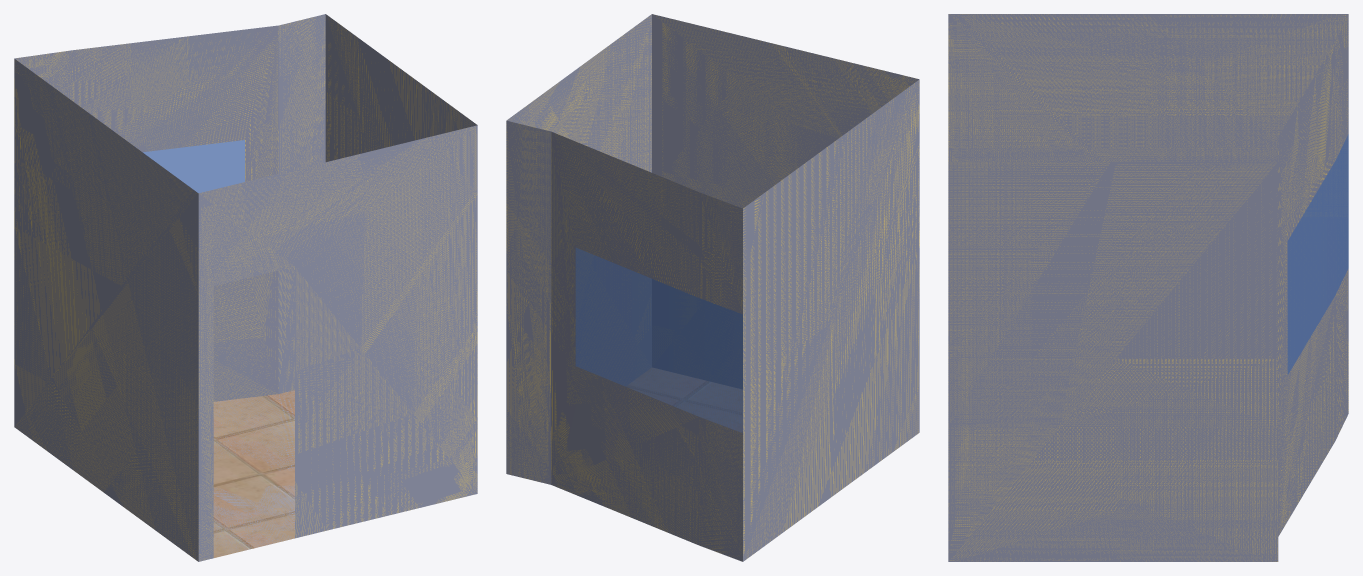
Rendered from LAB022.obj.
The picture shows the model from 3 angles, left to right: view 1: azimuth 30°, elevation 25°; view 2: azimuth 150°, elevation 25°; view 3: azimuth 270°, elevation 25°; orthographic projection. The views are drawn at different scales.
Visible parts, largest first — view 1: Mesh1 DES022 Model; view 2: Mesh1 DES022 Model; view 3: Mesh1 DES022 Model.
Part boxes in pixels (left/top/right/bottom): Mesh1 DES022 Model: left=14, top=14, right=477, bottom=561; Mesh1 DES022 Model: left=506, top=14, right=919, bottom=561; Mesh1 DES022 Model: left=948, top=14, right=1348, bottom=561.
Bounding box in the file's own units: 2.38 × 3 × 2.72.
Materials: 4 (1 with a texture image).
